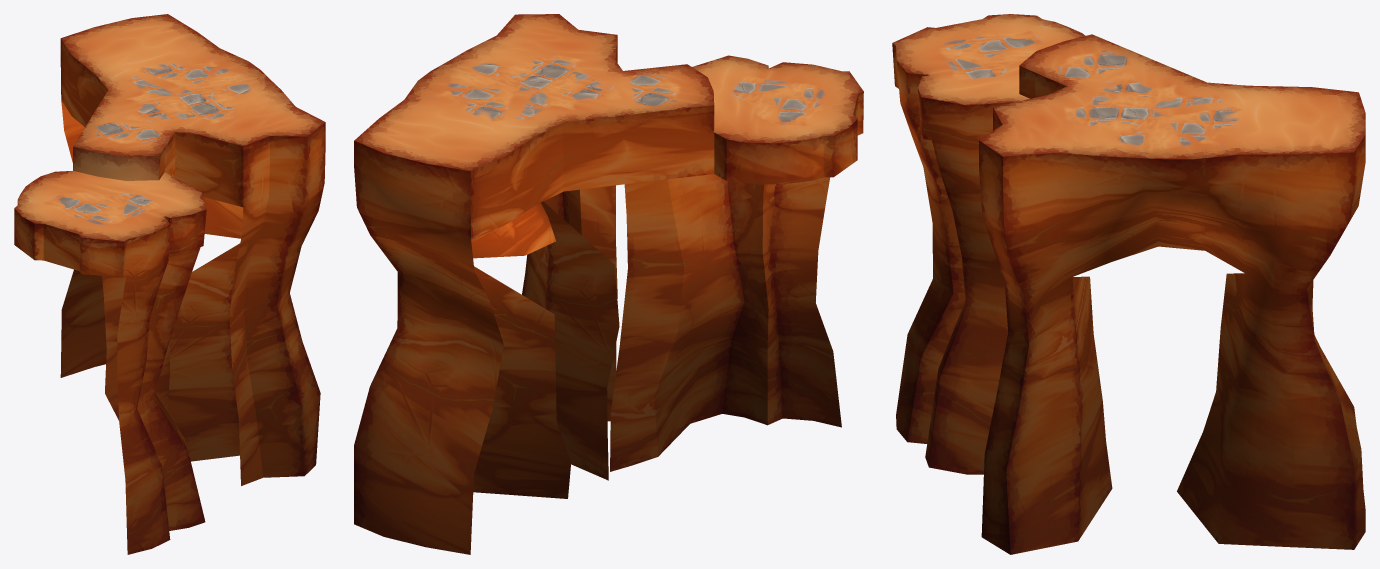
The model's file is path_09.fbx.
The picture shows the model from 3 angles, left to right: view 1: azimuth 30°, elevation 25°; view 2: azimuth 150°, elevation 25°; view 3: azimuth 270°, elevation 25°; orthographic projection. The views are drawn at different scales.
Parts seen in each view (by area): view 1: path_09; view 2: path_09; view 3: path_09.
Boxes of the visible parts, x1,y1,x2,y2 form: path_09: (14, 14, 325, 554); path_09: (354, 14, 863, 554); path_09: (892, 14, 1365, 554).
Bounding box in the file's own units: 22.94 × 25.13 × 26.43.
1 material, 1 textured.
